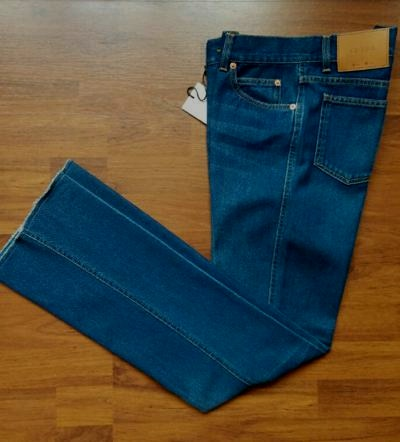Pants: (1, 14, 394, 407)
